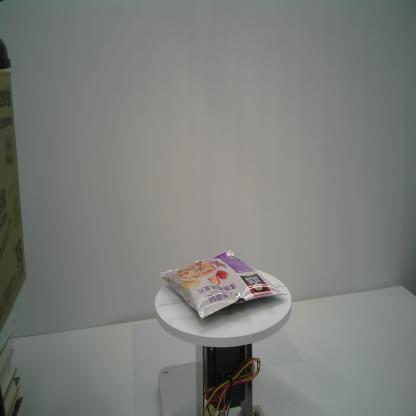Instant Drink: (159, 248, 287, 319)
